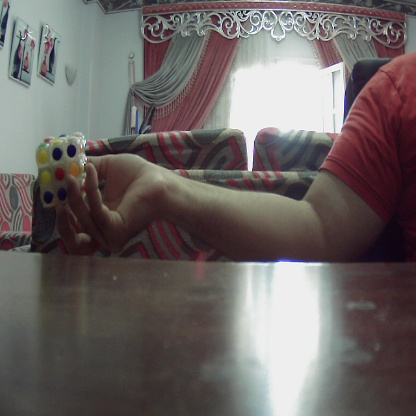Rubix Cube: (37, 136, 90, 200)
